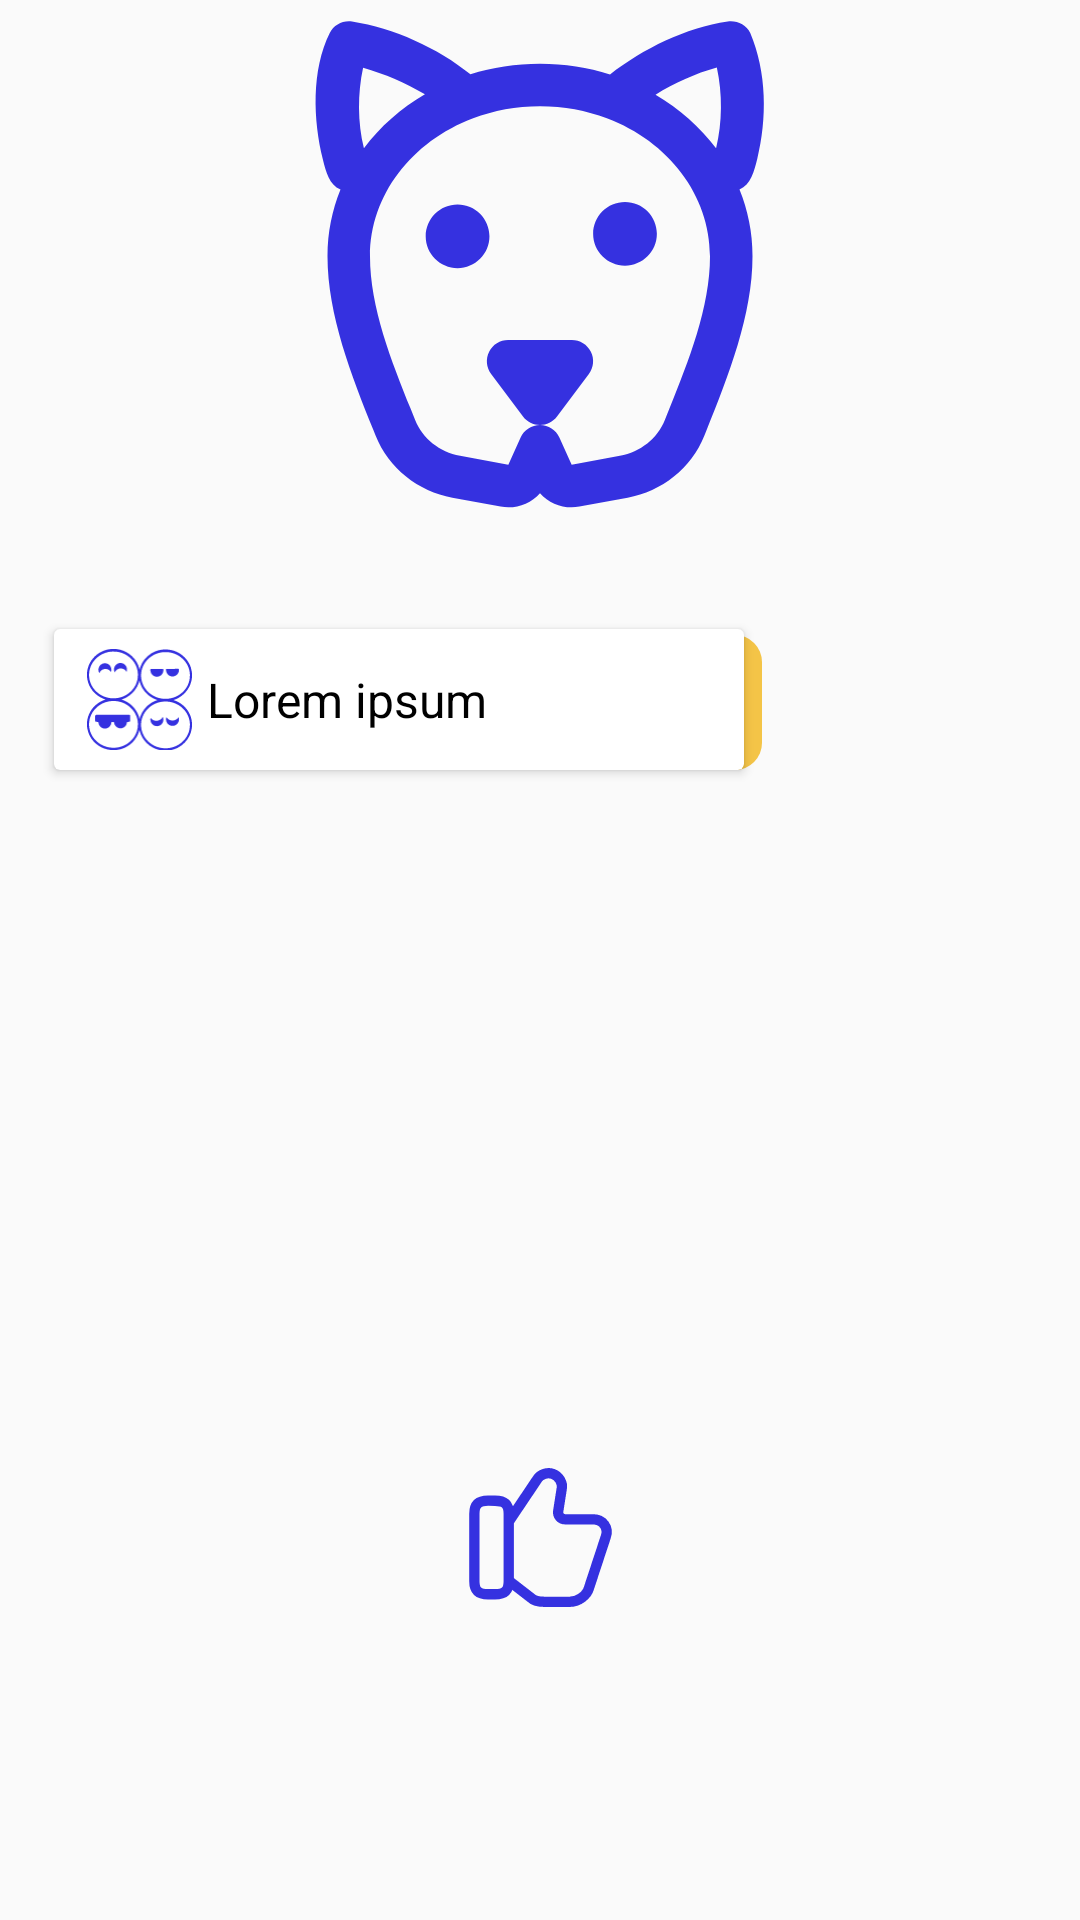

Where icons sit on this 1080x1920 app screen, as (x1, y1, x2, y2):
faces: (87, 649, 192, 750)
like: (469, 1468, 612, 1607)
